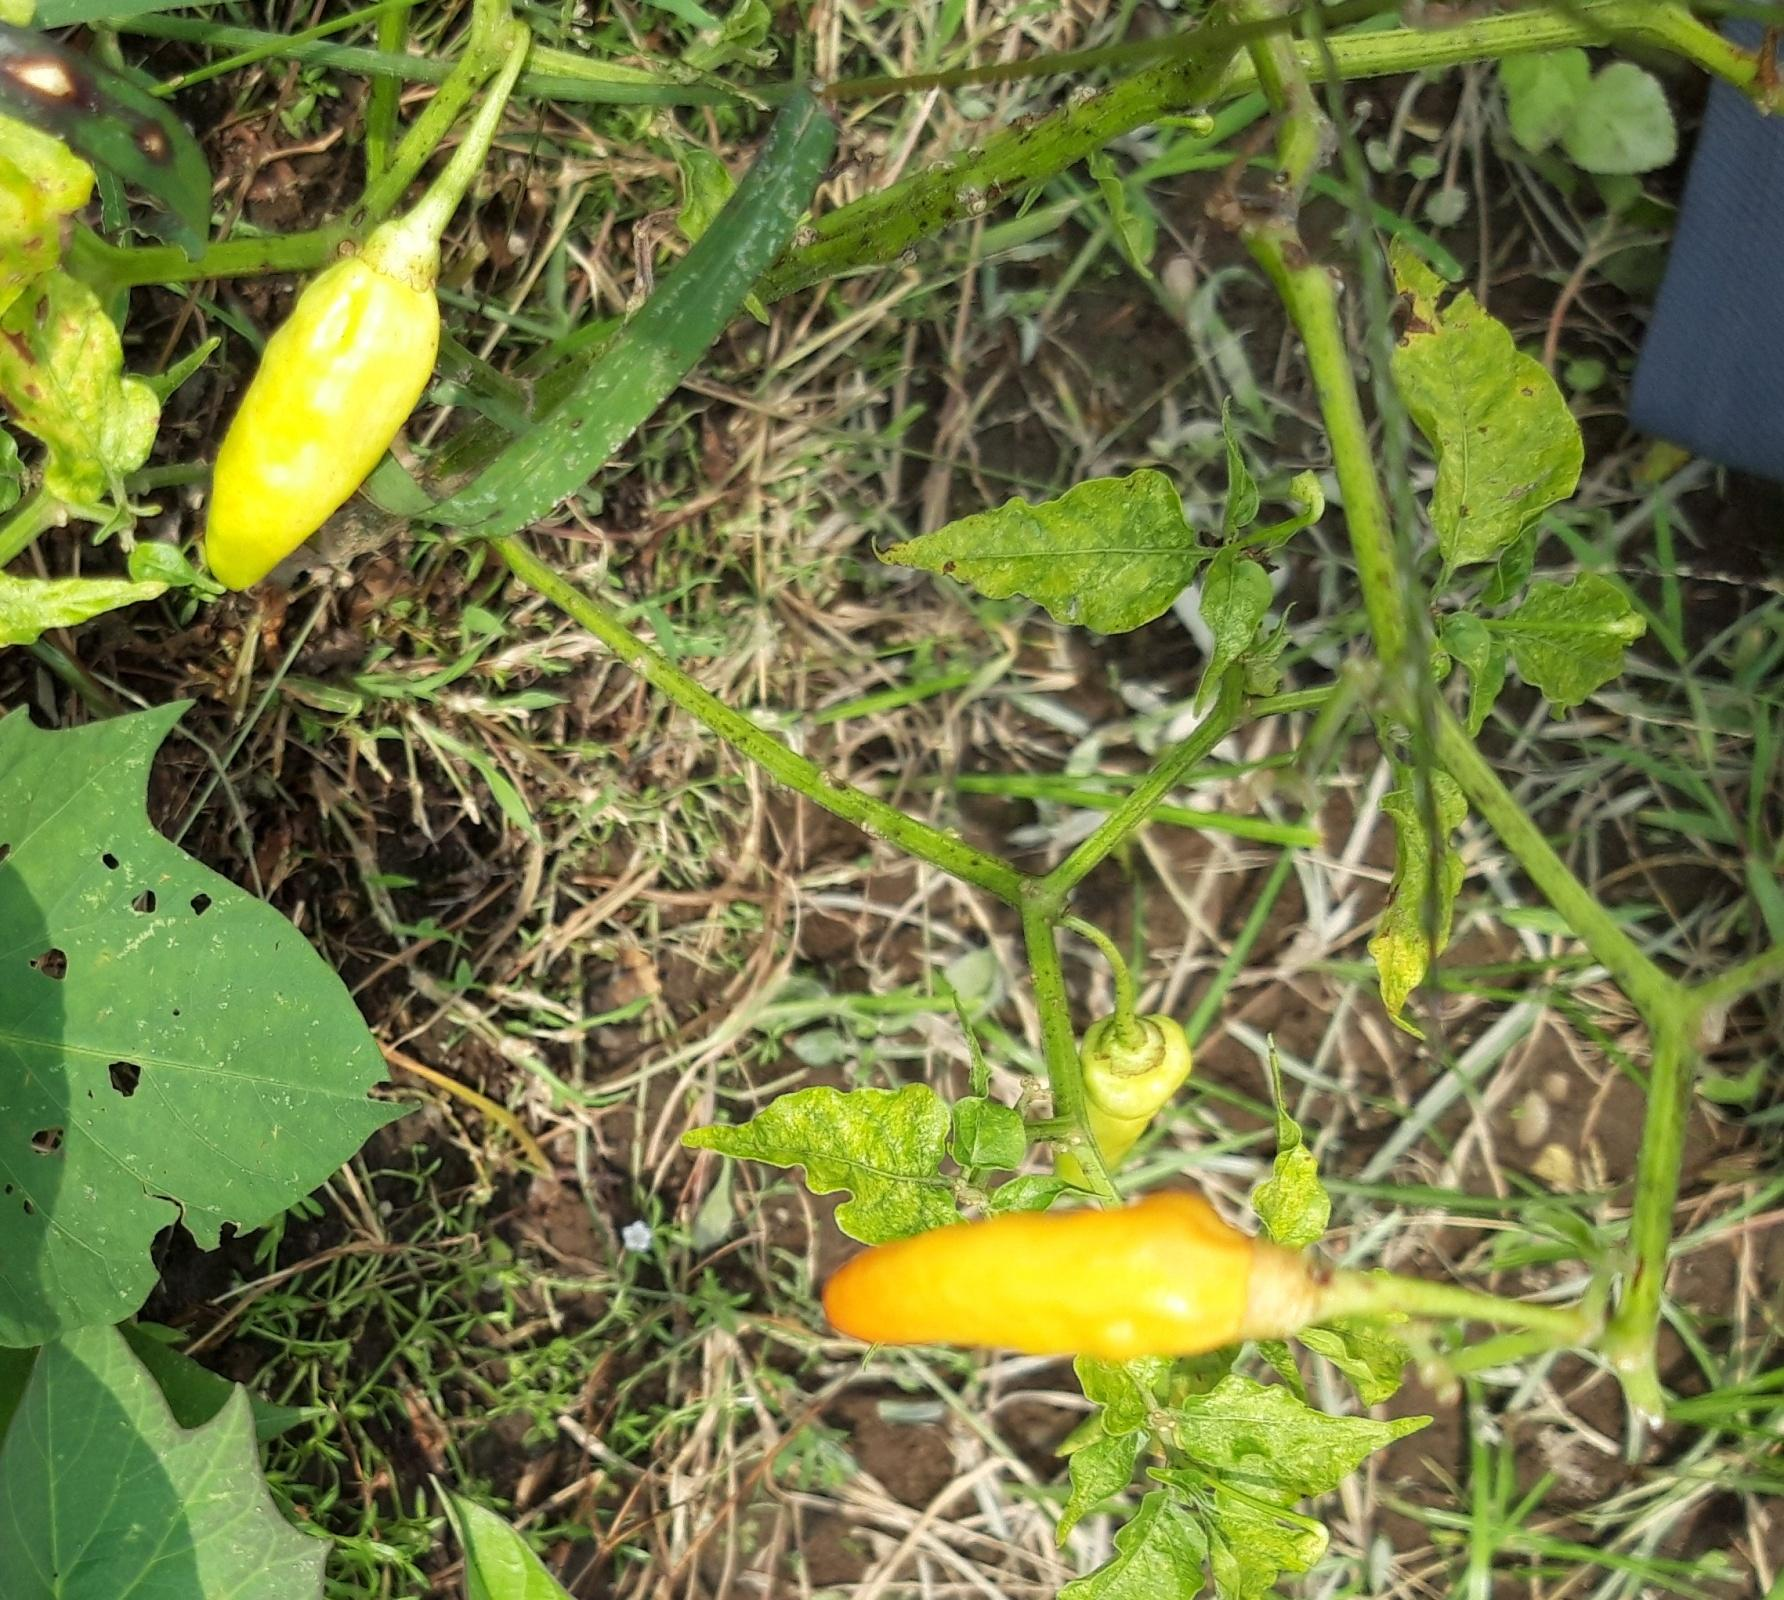cabai_normal: (819, 1183, 1322, 1358), (205, 236, 445, 595), (1084, 1018, 1191, 1185)
